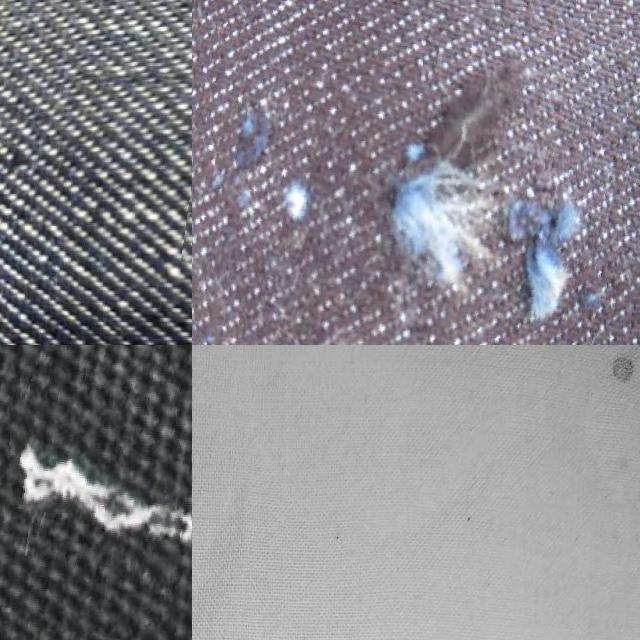Thread_other: (602, 345, 640, 402)
stains: (192, 0, 640, 345), (0, 345, 192, 640)
